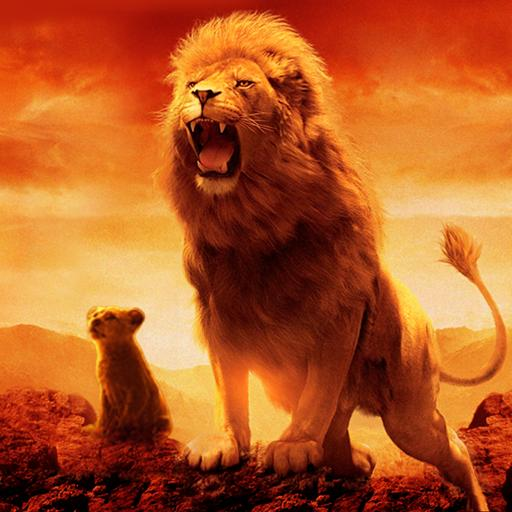Lion: (155, 6, 512, 512), (77, 292, 180, 455)
